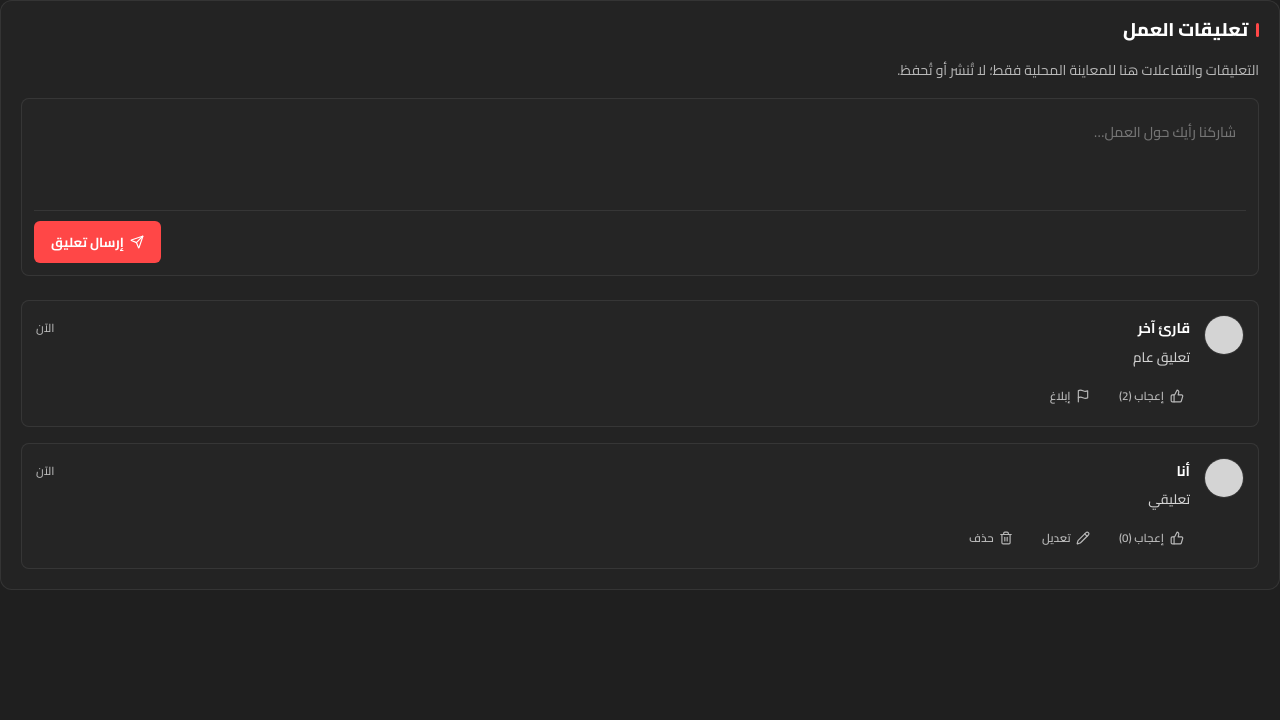
CommentsSection › edits an owned comment inline
Click the button "تعديل" at point(1066, 538), box [1036, 522, 1097, 554]
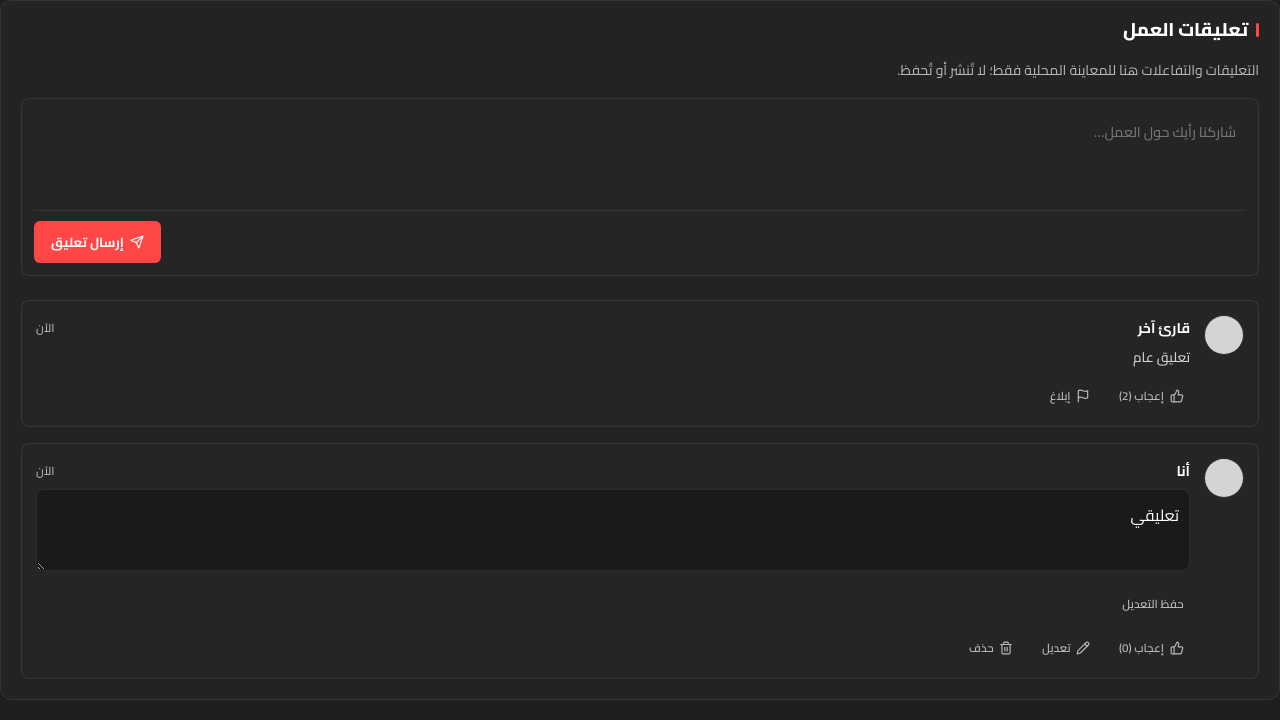
Replace the text in the text box named "تعديل التعليق" with "تعليق معدل" at point(613, 530), box [36, 490, 1190, 572]
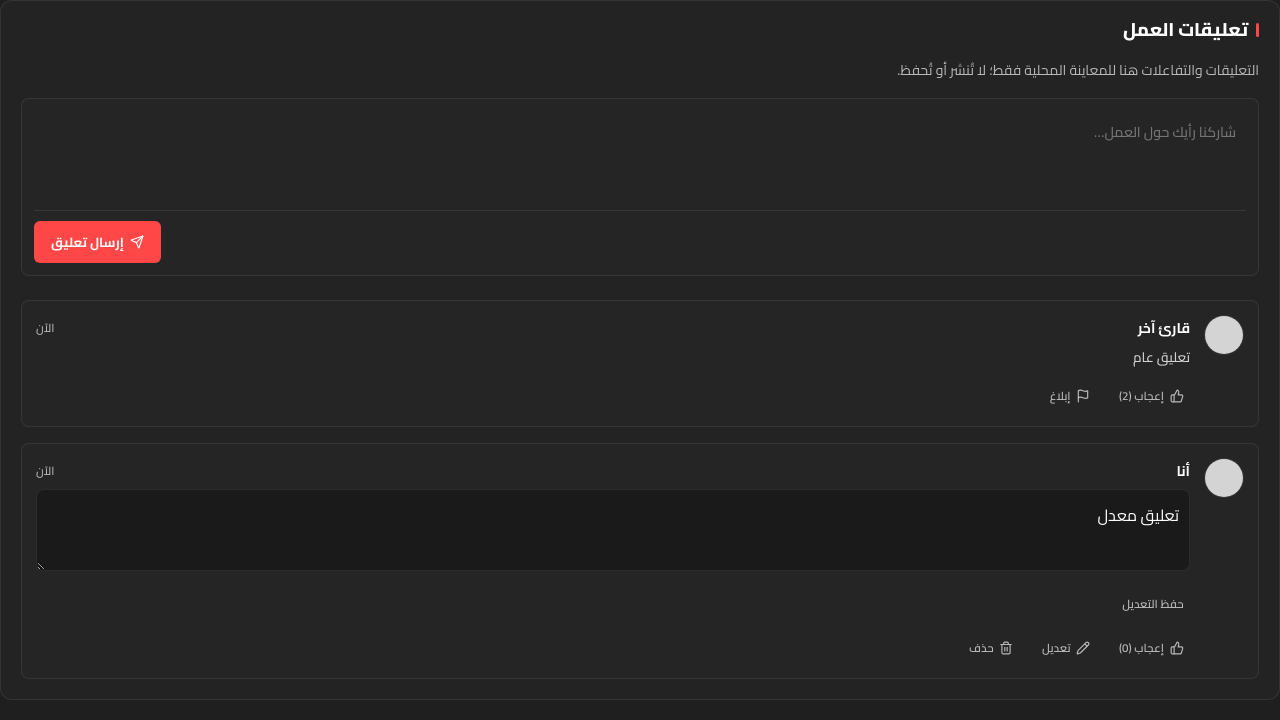
Click the button "حفظ التعديل" at point(1153, 604), box [1116, 588, 1190, 620]
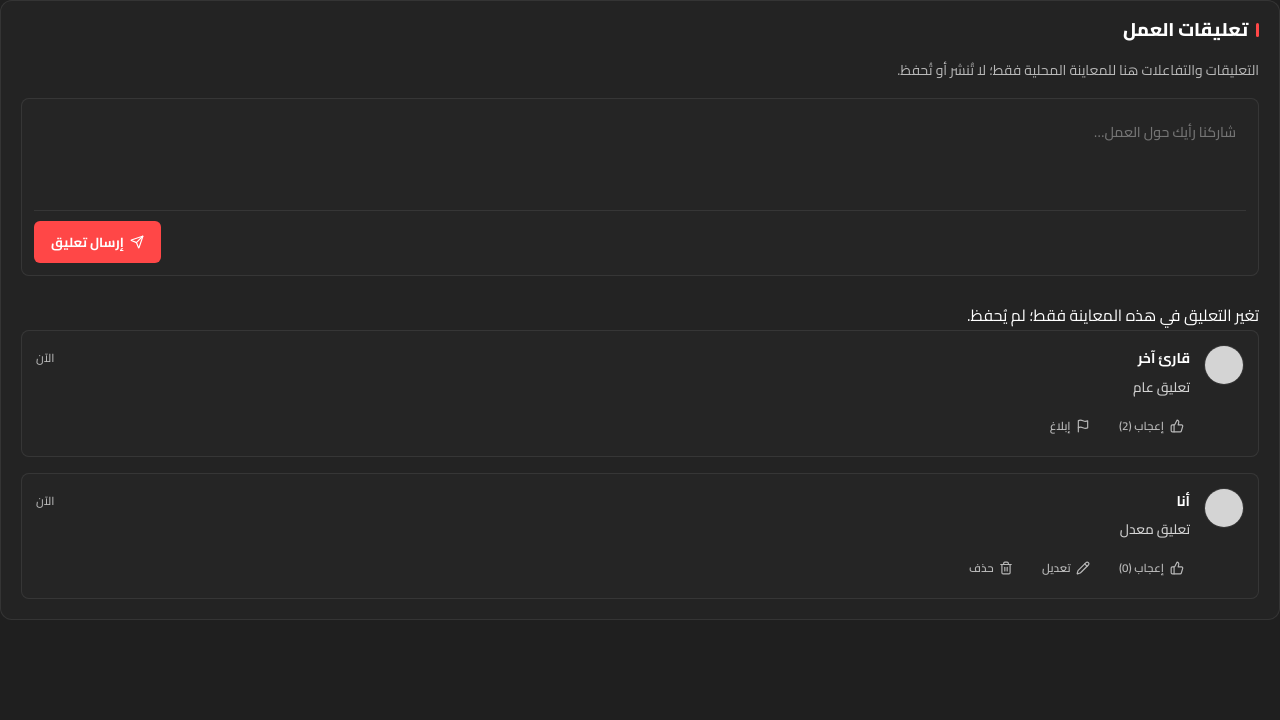
Result: the text "تعليق معدل" is shown at [1120, 516, 1190, 542]
